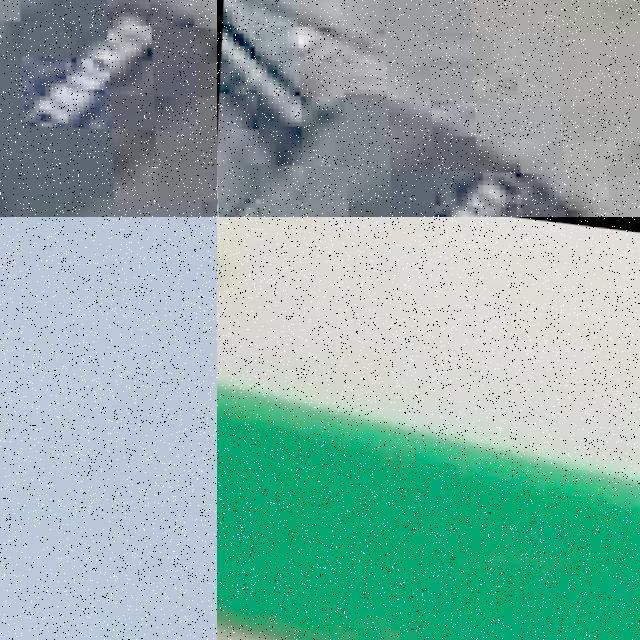drone: (217, 217, 640, 640), (217, 0, 640, 217), (0, 0, 217, 217)
